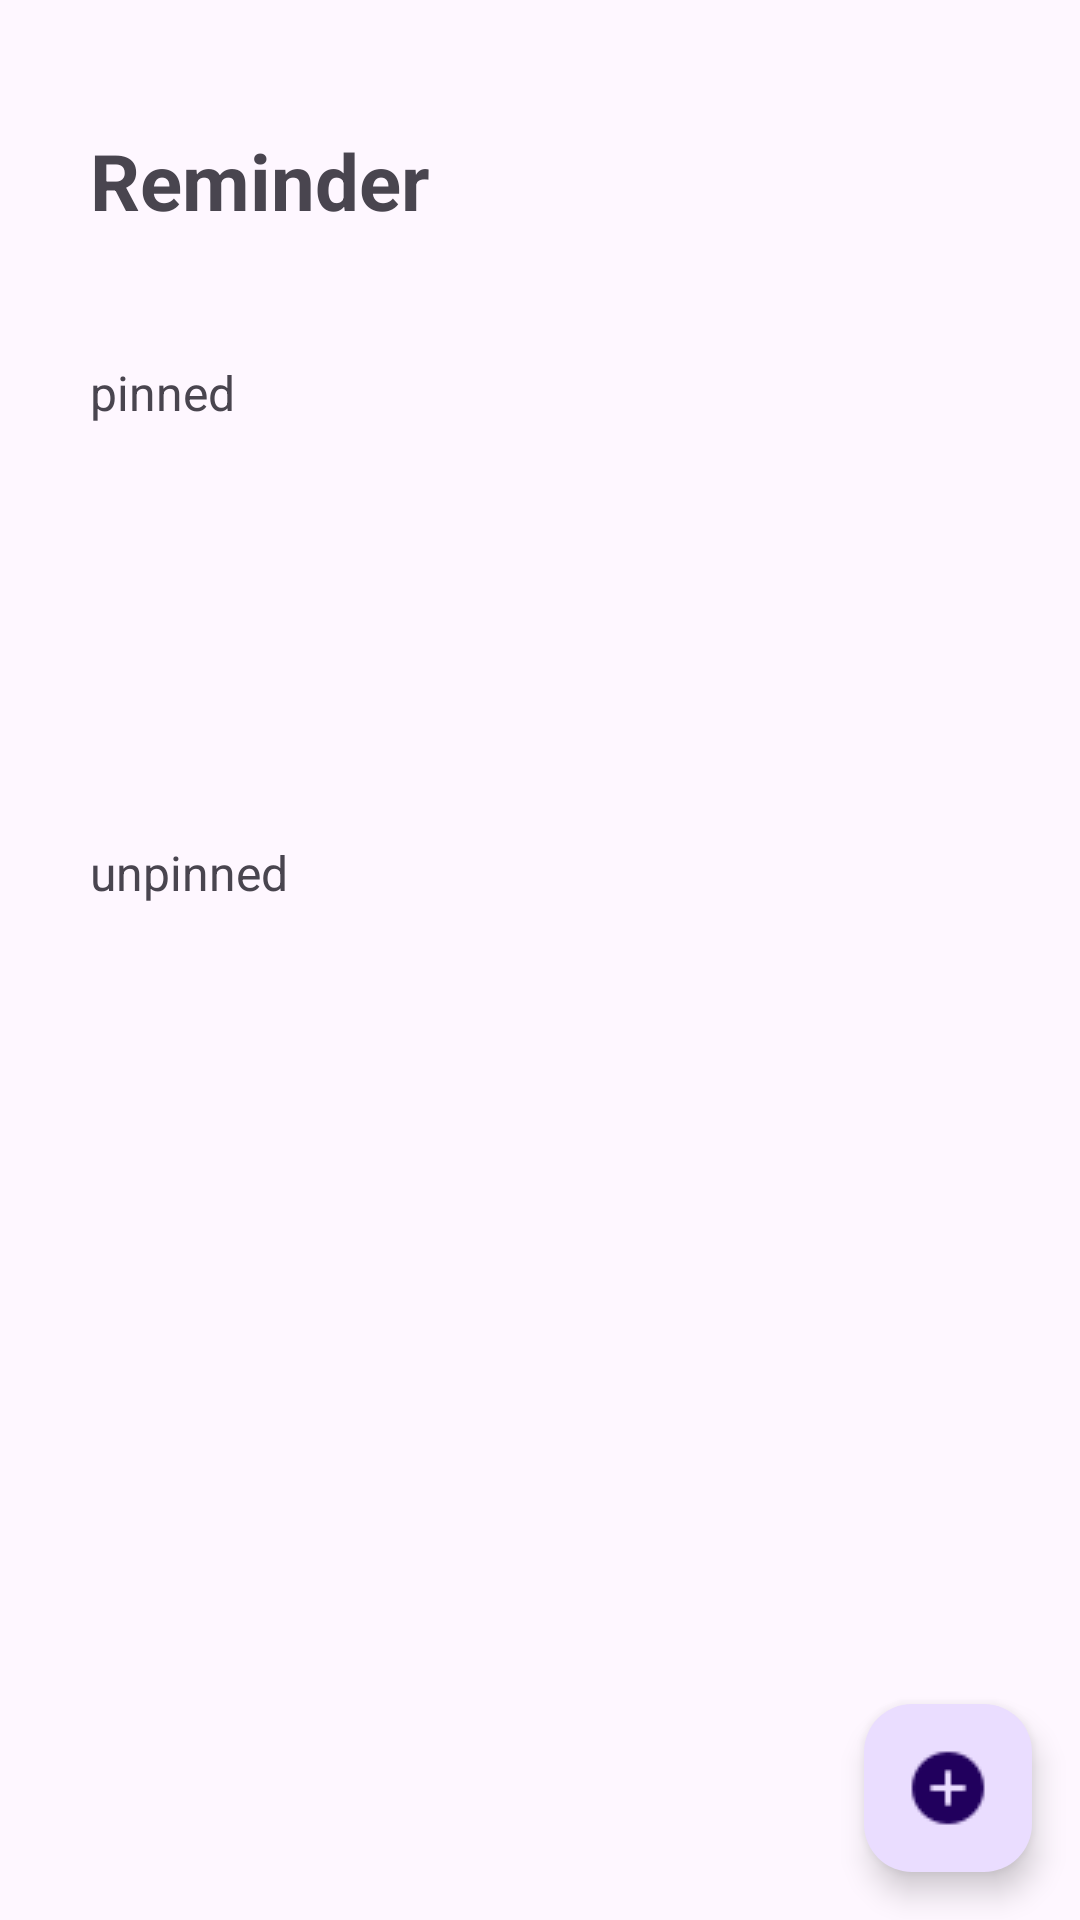

Screen size 1080px×1920px. Icon name, then its center in pixels as (x=x, y=y):
iconsadd: (x=948, y=1788)
